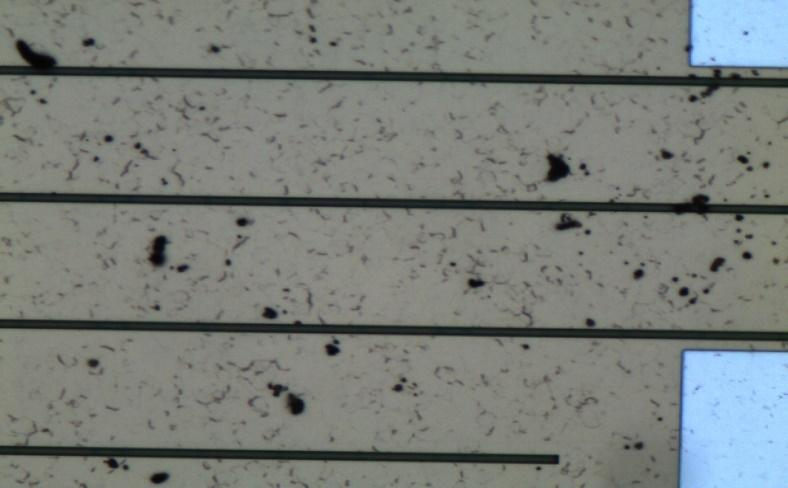PO CONTAMINATION: (9, 18, 776, 488)
